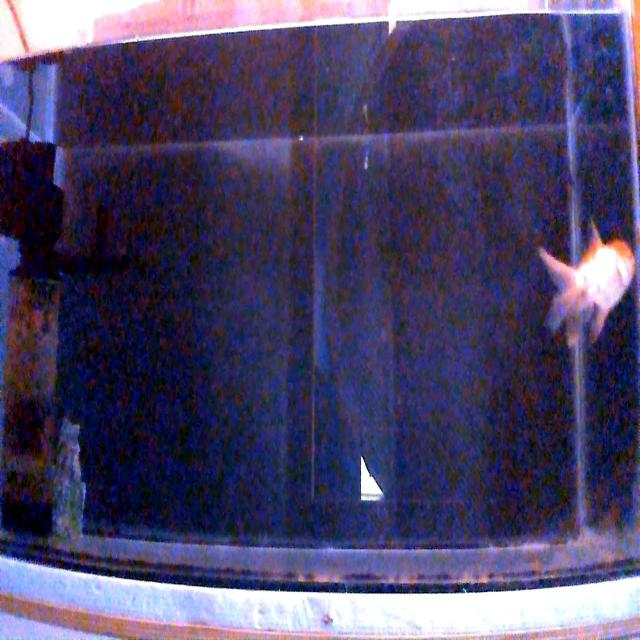fish: (538, 219, 635, 349)
